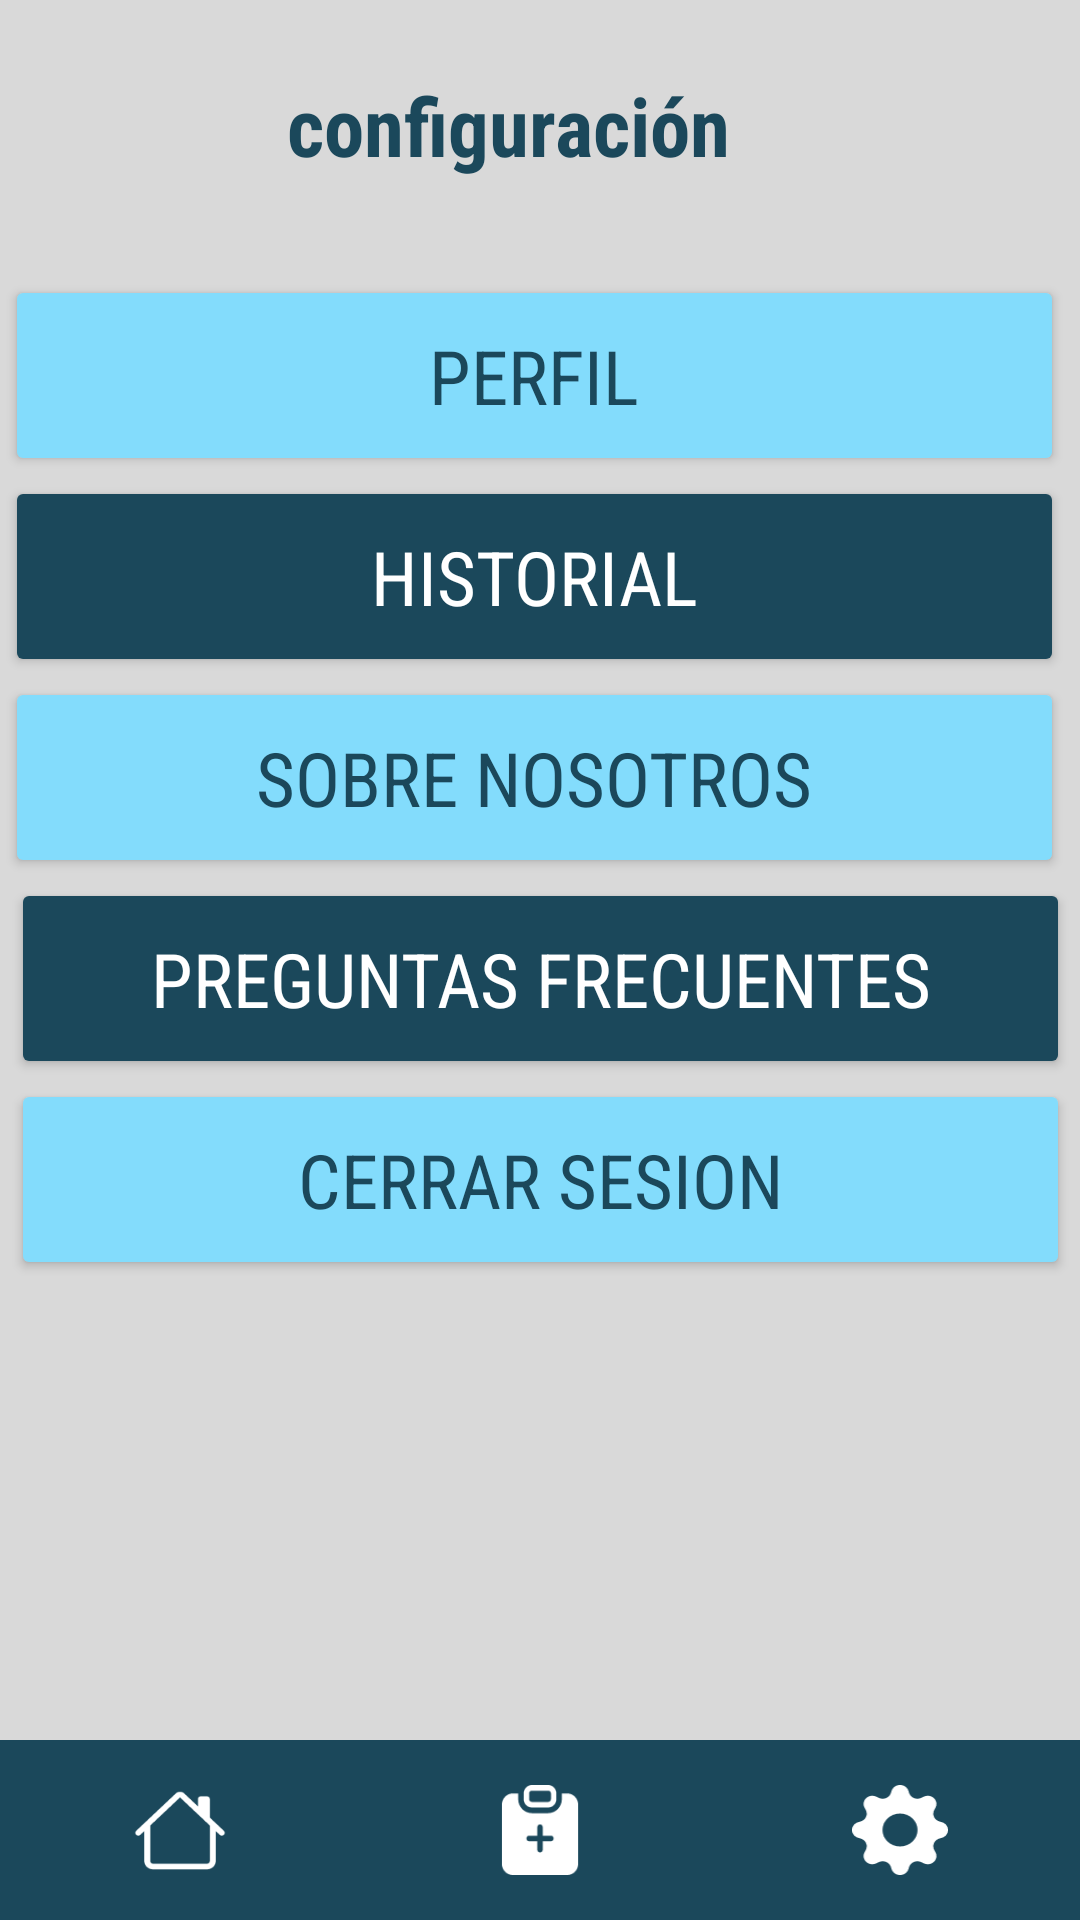

Where icons sit on this 1080×1920 app screen, as region(x1, y1, x2, y2):
Agregar: region(502, 1785, 579, 1875)
Configuración: region(852, 1785, 948, 1875)
Inicio: region(135, 1791, 225, 1870)
